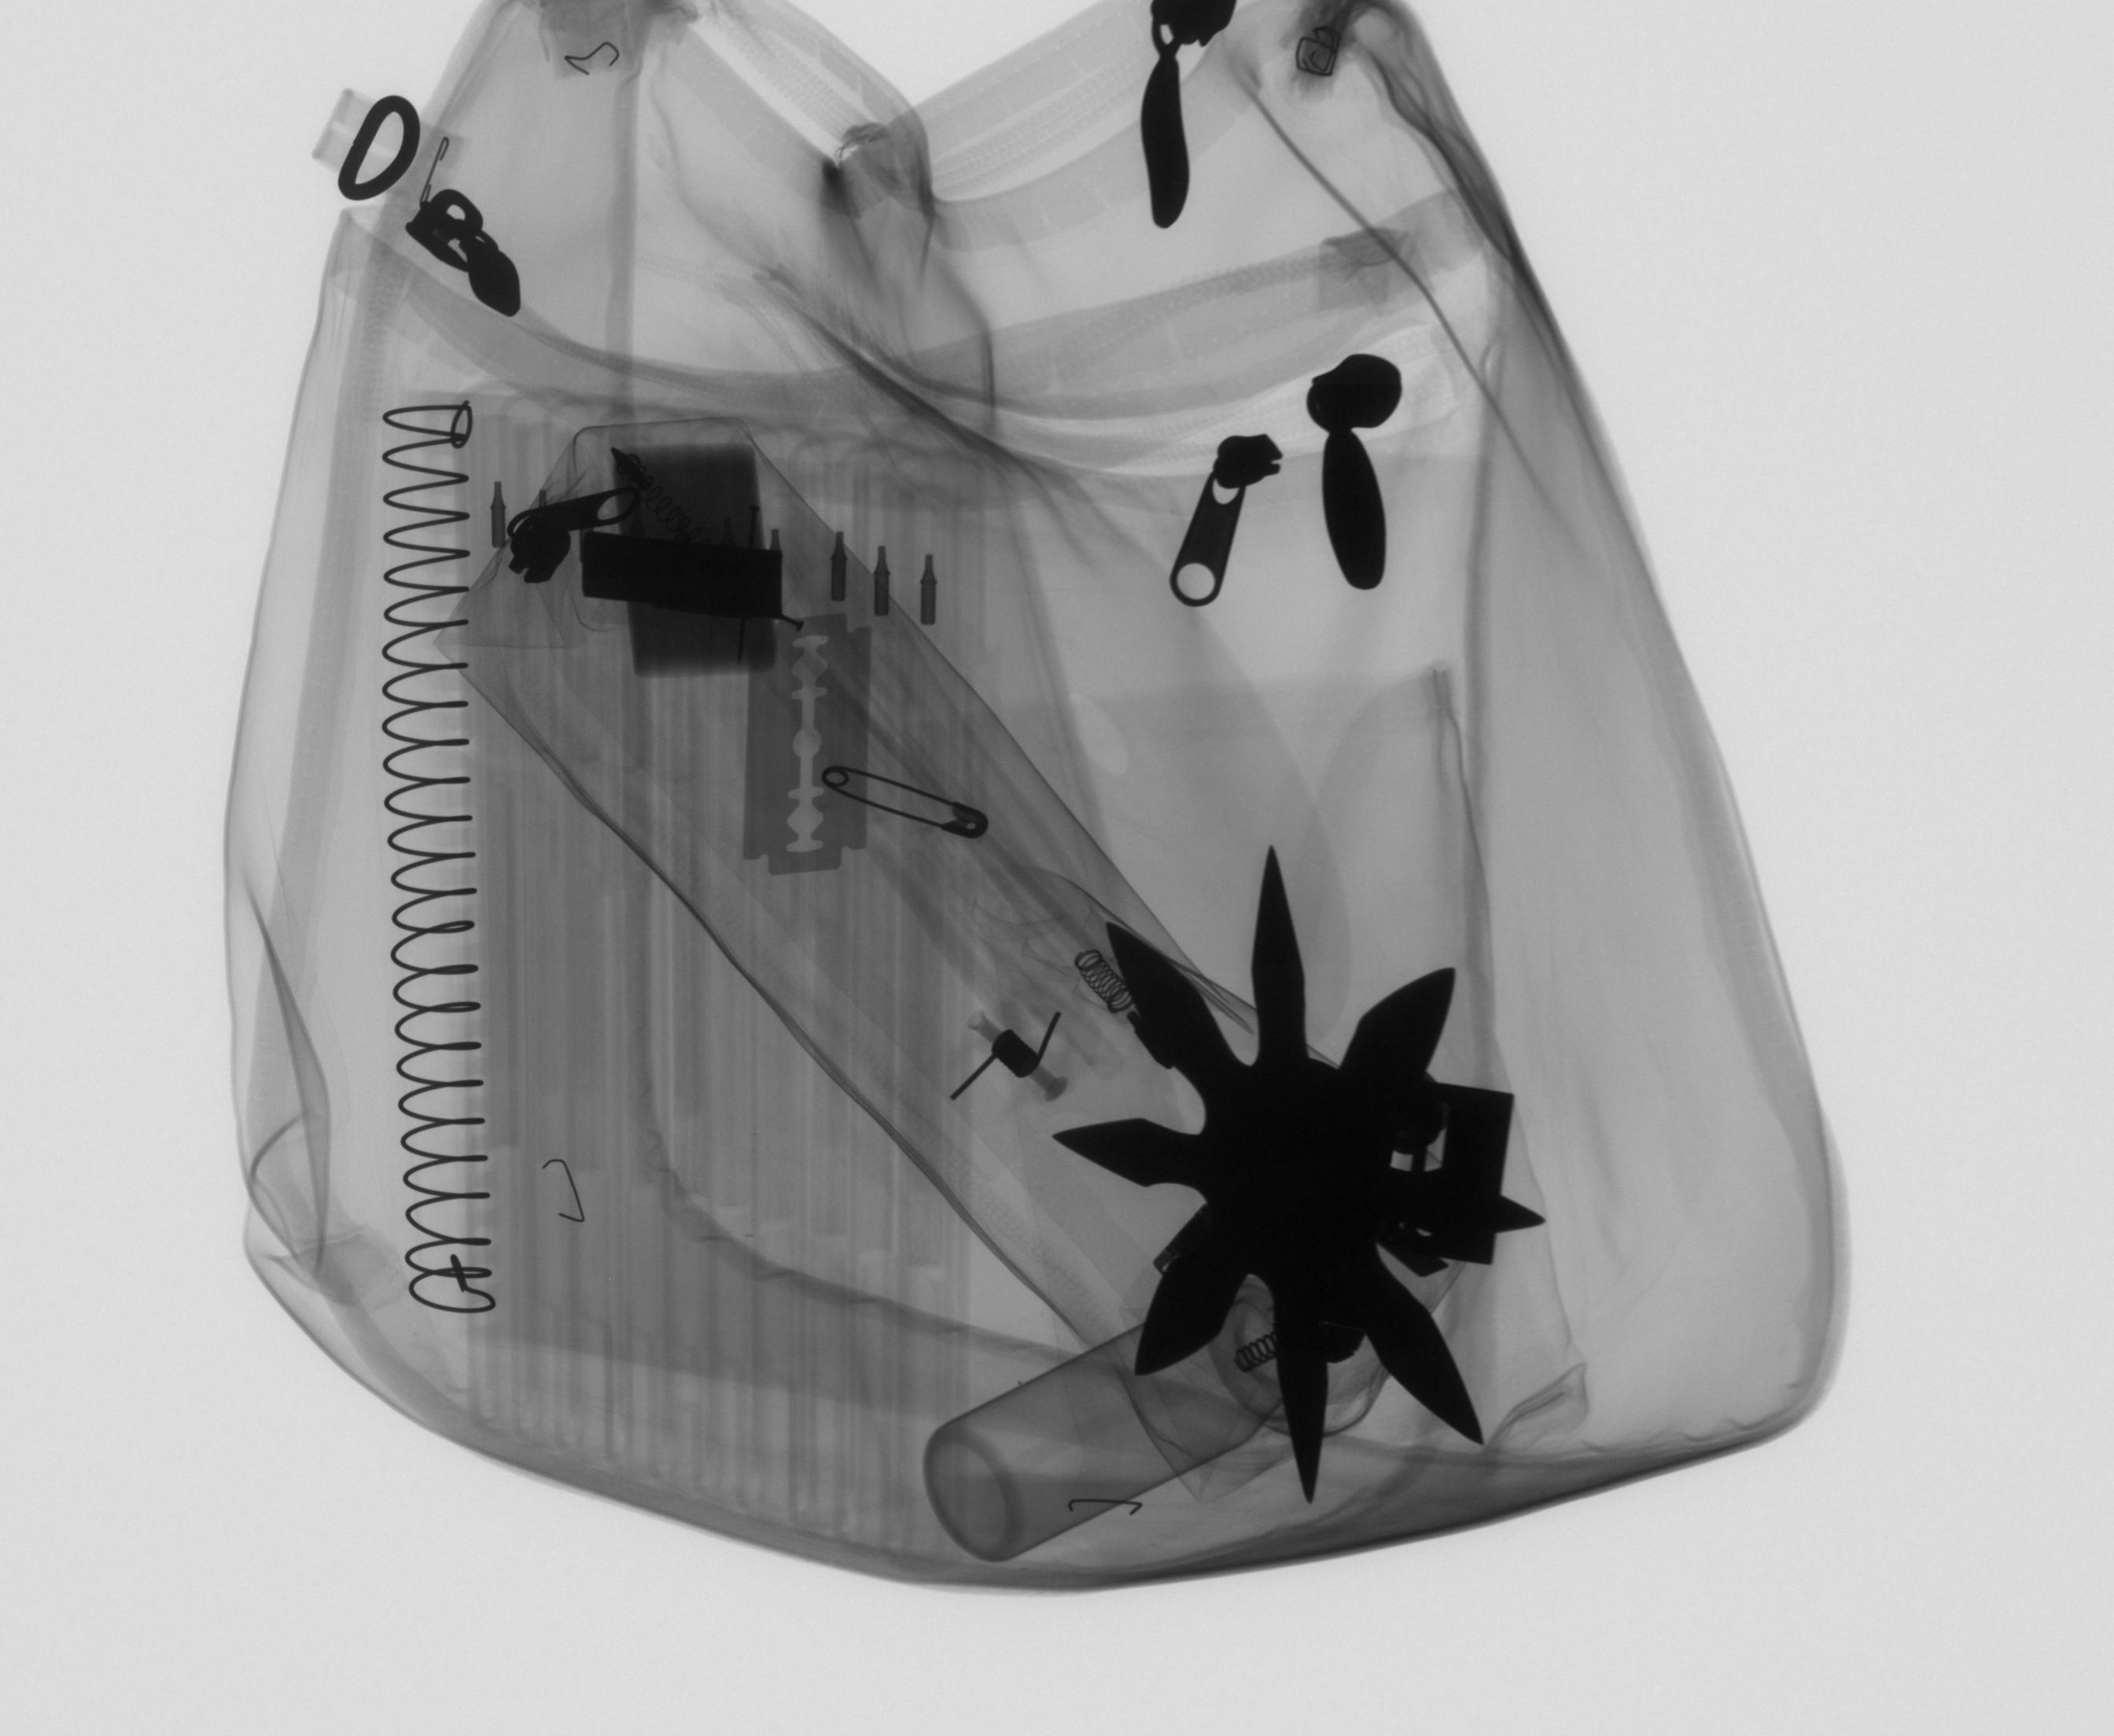RazorBlade: (732, 606, 883, 886)
Shuriken: (1038, 830, 1559, 1517)
